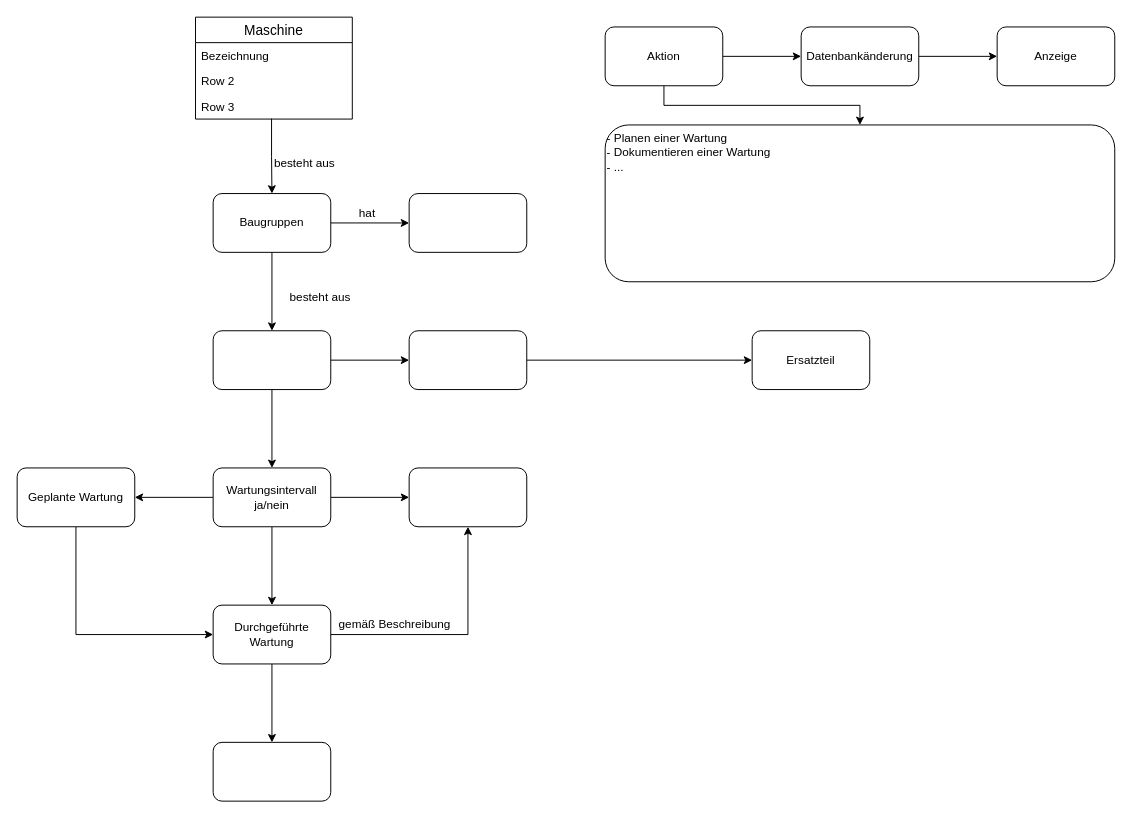
This 1132x818 diagram has some shape labels left out. The centre of each missing label's shape, as x and y in pixels:
"Bauteile" goes at point (271, 360).
"Termin Dokumentation" goes at point (271, 771).
"Verschleißteil ja / nein - Max Zyklen" goes at point (467, 360).
"Wartungsbeschreibung" goes at point (467, 497).
"Zyklenzähler" goes at point (467, 222).
